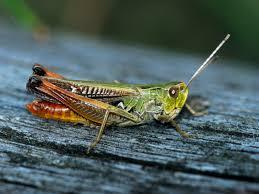Insects: (21, 31, 240, 156)
